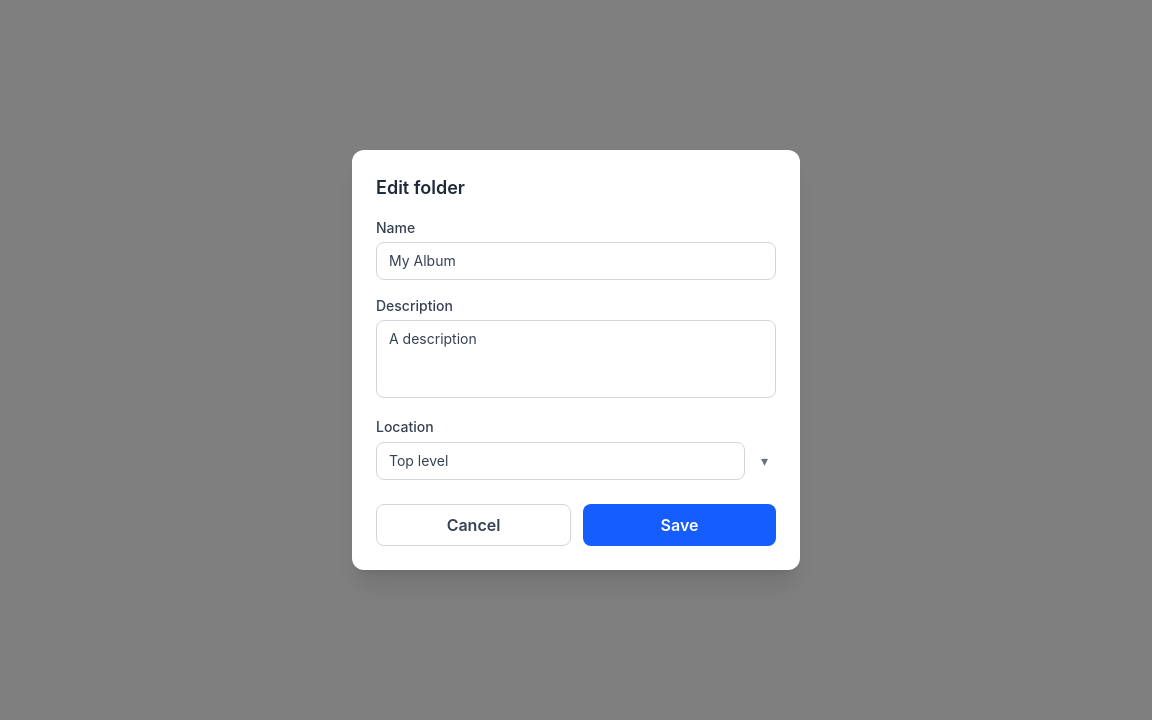
AlbumEditModal › shows a validation error when the name is cleared
This screenshot has width=1152, height=720.
Clear the field with test id "edit-name-input" at [576, 261], box x1=376 y1=242 x2=776 y2=280
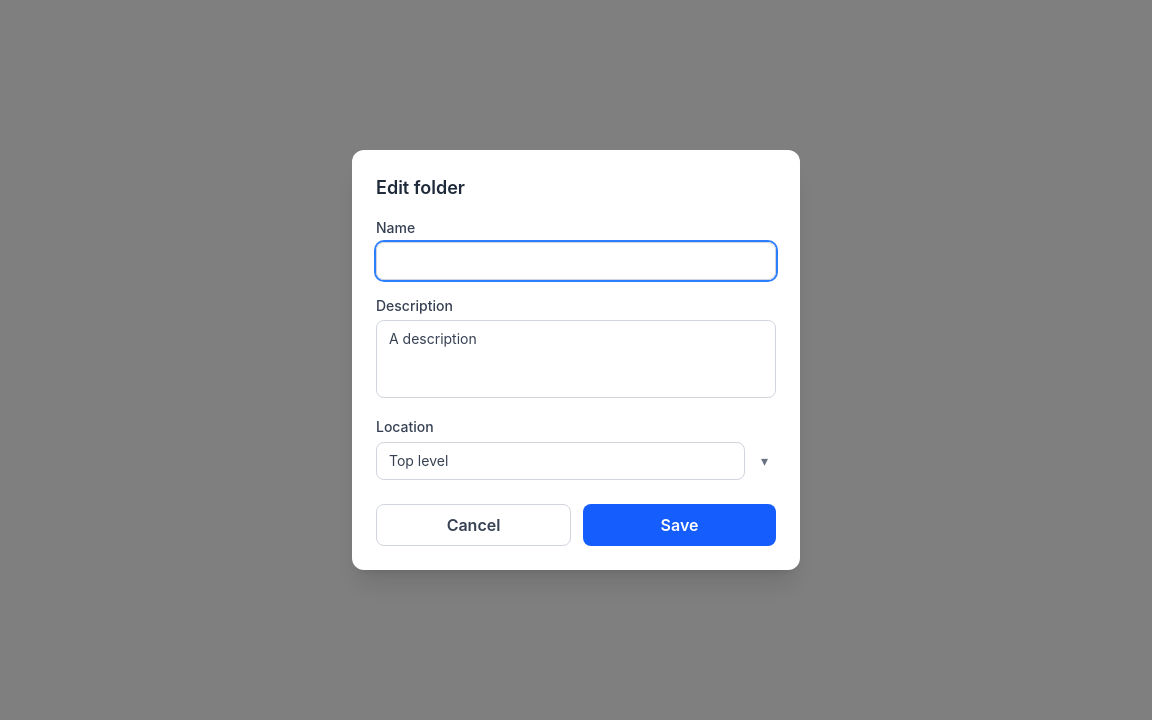
Click the button with test id "edit-save-button" at [680, 525], box x1=583 y1=504 x2=776 y2=546
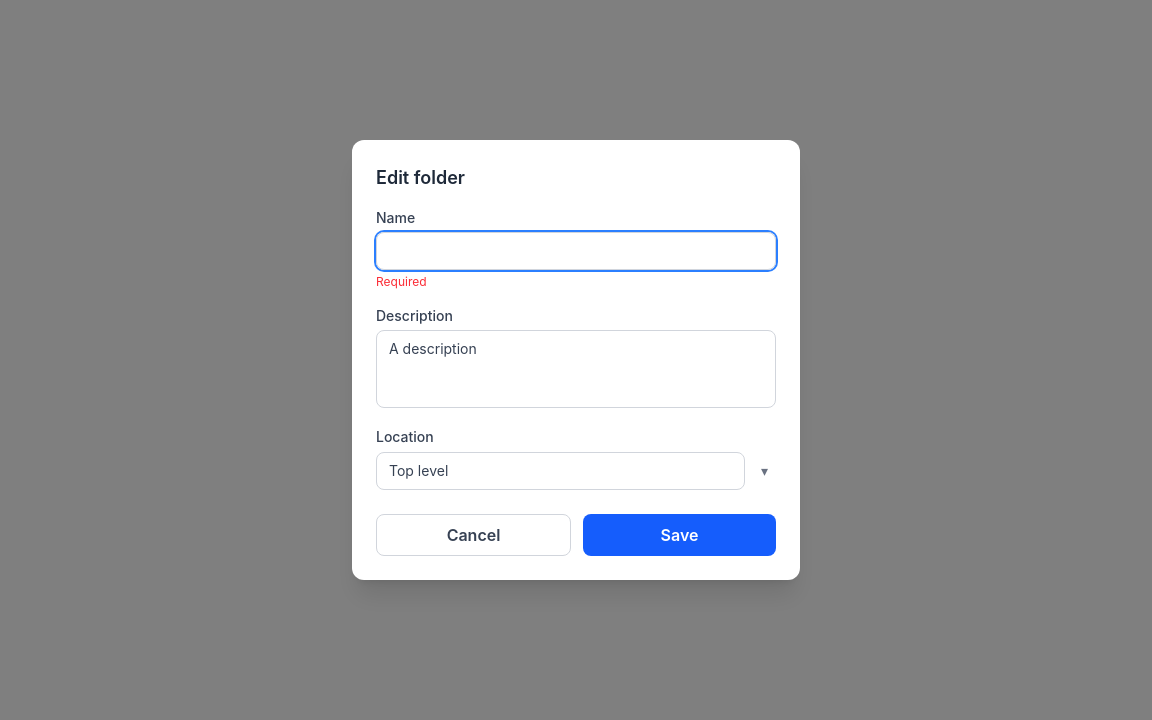
Expected: the text "Required" is shown, x1=376 y1=274 x2=427 y2=289
